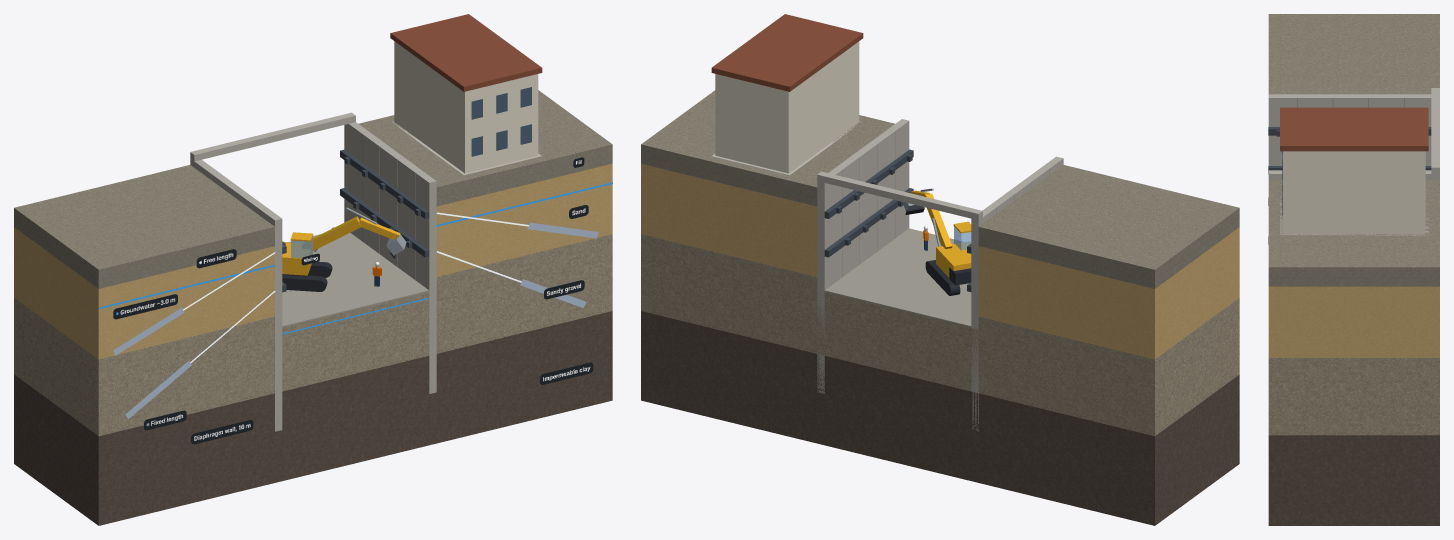
Rendered from munkagodor-feliratok-en.glb.
The picture shows the model from 3 angles, left to right: view 1: azimuth 30°, elevation 25°; view 2: azimuth 150°, elevation 25°; view 3: azimuth 270°, elevation 25°; orthographic projection.
Parts seen in each view (by area): view 1: Vizzaro_agyag, Homokos_kavics (×3), Munkagodor, Homok (×2), Feltoltes (×2), Resfal, Kotro, Felirat (×2), object 13; view 2: Vizzaro_agyag, Homokos_kavics (×3), Homok (×2), Munkagodor, Feltoltes (×2), Resfal, Kotro; view 3: Feltoltes (×2), Munkagodor, Vizzaro_agyag, Homokos_kavics, Homok, Resfal.
Boxes of the visible parts, x1,y1,x2,y2 form: Vizzaro_agyag: [14, 311, 612, 525]; Homokos_kavics (×3): [14, 234, 612, 436]; Munkagodor: [99, 14, 612, 418]; Homok (×2): [14, 163, 612, 359]; Feltoltes (×2): [14, 90, 612, 288]; Resfal: [190, 122, 436, 431]; Kotro: [282, 232, 332, 291]; Felirat (×2): [113, 294, 253, 444]; object 13: [302, 216, 361, 251]; Vizzaro_agyag: [641, 311, 1239, 525]; Homokos_kavics (×3): [641, 234, 1239, 436]; Homok (×2): [641, 163, 1239, 359]; Munkagodor: [711, 14, 982, 327]; Feltoltes (×2): [641, 90, 1239, 288]; Resfal: [817, 119, 1063, 431]; Kotro: [925, 221, 971, 295]; Feltoltes (×2): [1268, 14, 1439, 286]; Munkagodor: [1268, 88, 1439, 244]; Vizzaro_agyag: [1268, 435, 1439, 525]; Homokos_kavics: [1268, 358, 1439, 435]; Homok: [1268, 286, 1439, 357]; Resfal: [1268, 94, 1439, 180].
Size of the model in its own units: 0.84 by 0.538 by 0.241.
84 materials, 17 textured.
